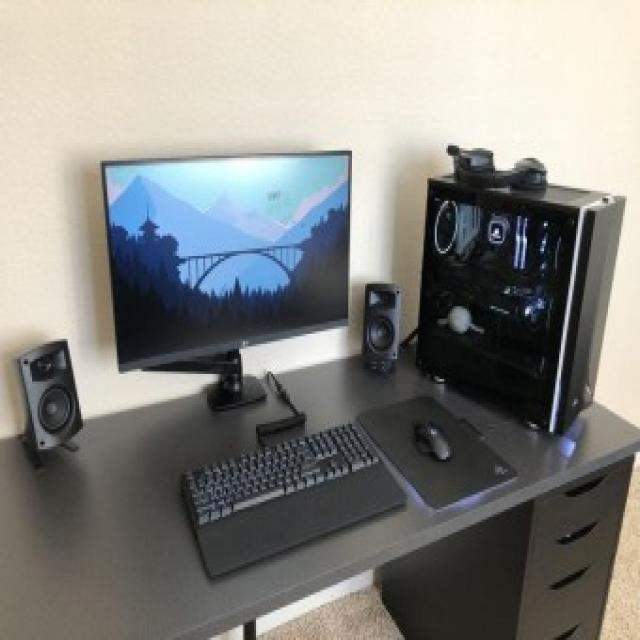Computer: (414, 172, 634, 445)
Monitor: (100, 136, 361, 379)
